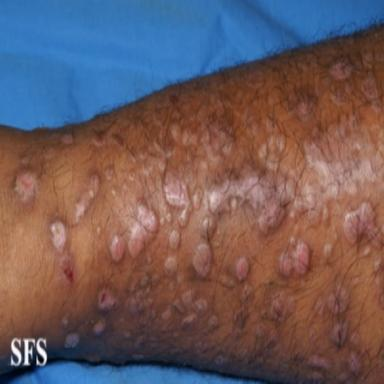Epidermolysis-Bullosa-Pruriginosa: (82, 64, 259, 177), (294, 117, 384, 223), (209, 171, 292, 232), (318, 280, 349, 348), (163, 171, 190, 249), (351, 44, 381, 113), (48, 214, 77, 285), (127, 203, 162, 258), (343, 202, 381, 245), (71, 174, 100, 225), (192, 217, 215, 277), (173, 290, 207, 330), (329, 58, 355, 106), (279, 238, 310, 277), (337, 332, 361, 381), (287, 86, 318, 122), (259, 134, 285, 171), (14, 170, 38, 205), (234, 284, 252, 328), (270, 292, 295, 321), (109, 235, 125, 261), (307, 355, 332, 371), (98, 290, 116, 310), (235, 255, 249, 280), (93, 319, 106, 336), (193, 189, 203, 209), (65, 334, 79, 348), (165, 256, 177, 272), (44, 146, 55, 162), (208, 315, 219, 330), (61, 133, 73, 145), (323, 243, 332, 258), (105, 167, 114, 181), (111, 189, 116, 197)
